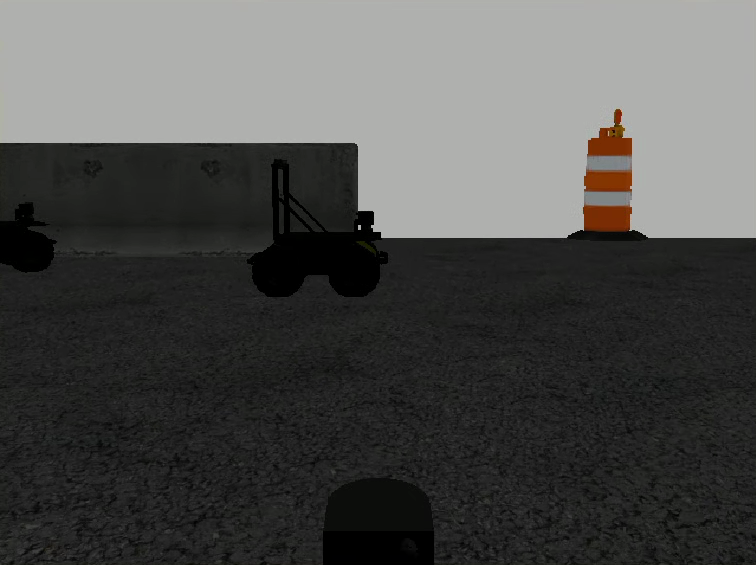husky: (247, 232, 389, 297), (1, 222, 58, 272)
